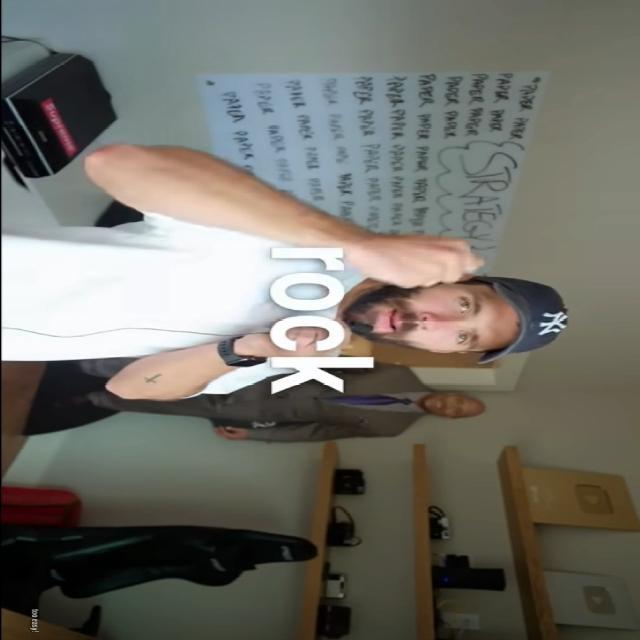Rock: (340, 232, 484, 289)
